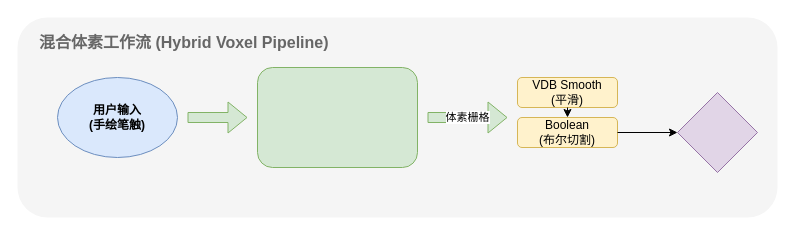
This 794x234 diagram has some shape labels left out. Each missing label, with the box of its shape:
Voxel Edit 节点 (交互式 DCC): (256, 66, 418, 168)
最终网格: (676, 92, 758, 172)
